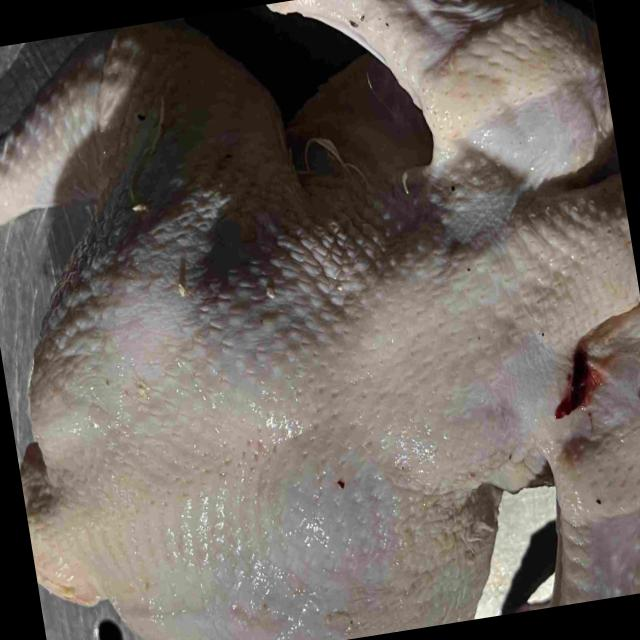back: (24, 192, 532, 627)
leg: (0, 17, 295, 287), (202, 508, 498, 640)
neck: (520, 142, 640, 334)
wing: (264, 0, 615, 191), (543, 320, 640, 609)
